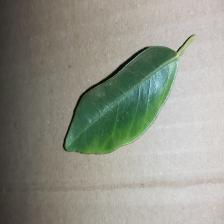greening: (64, 33, 196, 157)
